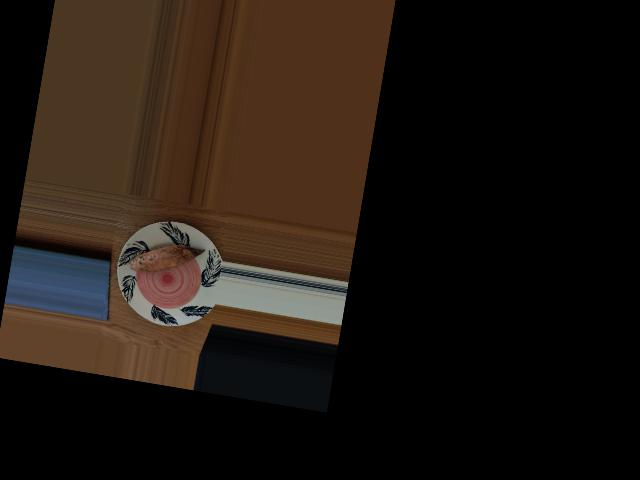sweet_potato: (132, 237, 197, 282)
